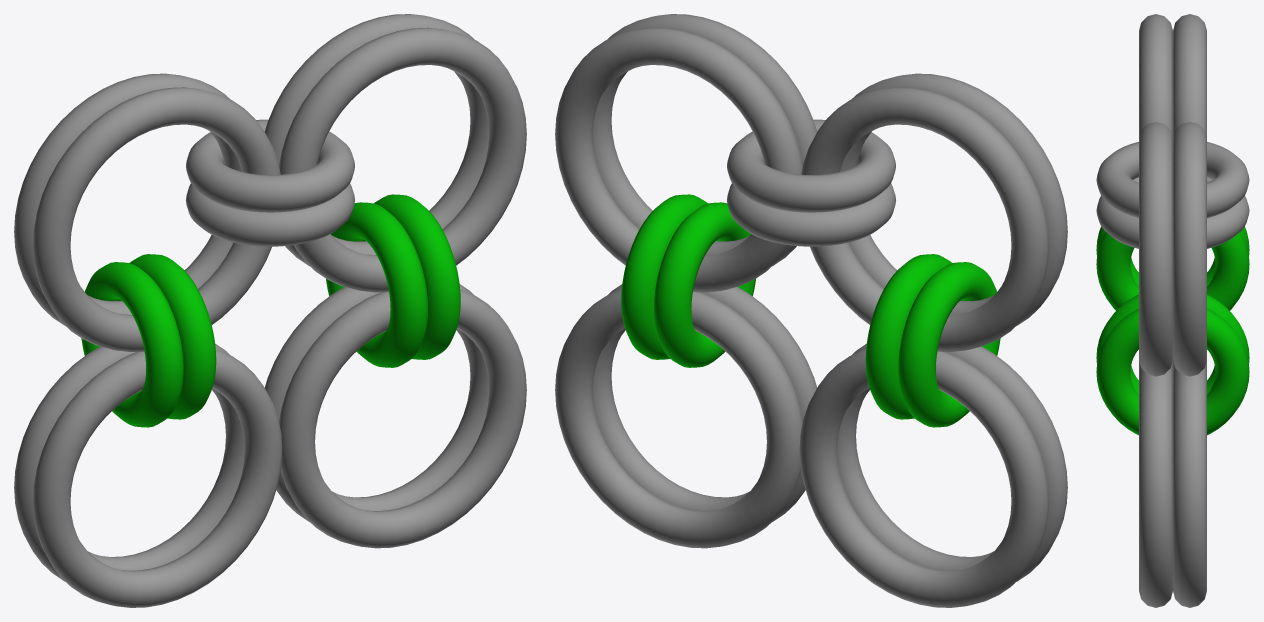
File: japanese_8_in_2_step_05.glb
The picture shows the model from 3 angles, left to right: view 1: azimuth 30°, elevation 25°; view 2: azimuth 150°, elevation 25°; view 3: azimuth 270°, elevation 25°; orthographic projection. The views are drawn at different scales.
Visible parts, largest first — view 1: Torus AR 6.003, Torus AR 6.001, Torus AR 6.032, Torus AR 6.024, Torus AR 6.004, Torus AR 6.002, Torus AR 6.019, Torus AR 6.027, Torus AR 3.003, Torus AR 3.042, Torus AR 3.002, Torus AR 3.041 (+2 smaller); view 2: Torus AR 6.004, Torus AR 6.002, Torus AR 6.027, Torus AR 6.019, Torus AR 6.003, Torus AR 6.001, Torus AR 6.024, Torus AR 6.032, Torus AR 3.003, Torus AR 3.042, Torus AR 3.002, Torus AR 3.041 (+2 smaller); view 3: Torus AR 6.027, Torus AR 6.032, Torus AR 6.001, Torus AR 6.002, Torus AR 3.001, Torus AR 3.042, Torus AR 3.004, Torus AR 6.019, Torus AR 6.024, Torus AR 3.041, Torus AR 3.002, Torus AR 3.003.
Boxes of the visible parts, box(x1,y1,x2,y2) form: Torus AR 6.003: box(33, 349, 282, 607); Torus AR 6.001: box(279, 289, 526, 548); Torus AR 6.032: box(279, 27, 526, 292); Torus AR 6.024: box(33, 87, 280, 351); Torus AR 6.004: box(14, 343, 244, 581); Torus AR 6.002: box(264, 284, 489, 521); Torus AR 6.019: box(14, 73, 241, 325); Torus AR 6.027: box(264, 14, 489, 266); Torus AR 3.003: box(81, 262, 183, 427); Torus AR 3.042: box(186, 119, 354, 212); Torus AR 3.002: box(326, 202, 428, 367); Torus AR 3.041: box(186, 183, 354, 246); Torus AR 6.004: box(799, 349, 1048, 607); Torus AR 6.002: box(555, 289, 802, 548); Torus AR 6.027: box(555, 27, 802, 292); Torus AR 6.019: box(801, 87, 1048, 351); Torus AR 6.003: box(837, 343, 1067, 581); Torus AR 6.001: box(592, 284, 817, 521); Torus AR 6.024: box(840, 73, 1067, 325); Torus AR 6.032: box(592, 14, 817, 266); Torus AR 3.003: box(898, 262, 1000, 427); Torus AR 3.042: box(727, 119, 895, 212); Torus AR 3.002: box(653, 202, 755, 367); Torus AR 3.041: box(727, 183, 895, 246); Torus AR 6.027: box(1173, 122, 1206, 376); Torus AR 6.032: box(1139, 122, 1172, 376); Torus AR 6.001: box(1139, 365, 1172, 607); Torus AR 6.002: box(1173, 365, 1206, 607); Torus AR 3.001: box(1096, 309, 1249, 435); Torus AR 3.042: box(1096, 142, 1249, 217); Torus AR 3.004: box(1096, 231, 1249, 310); Torus AR 6.019: box(1173, 14, 1206, 137); Torus AR 6.024: box(1139, 14, 1172, 137); Torus AR 3.041: box(1096, 177, 1249, 248); Torus AR 3.002: box(1096, 294, 1249, 394); Torus AR 3.003: box(1096, 226, 1249, 286).
Bounding box in the file's own units: 6 × 6 × 1.8.
